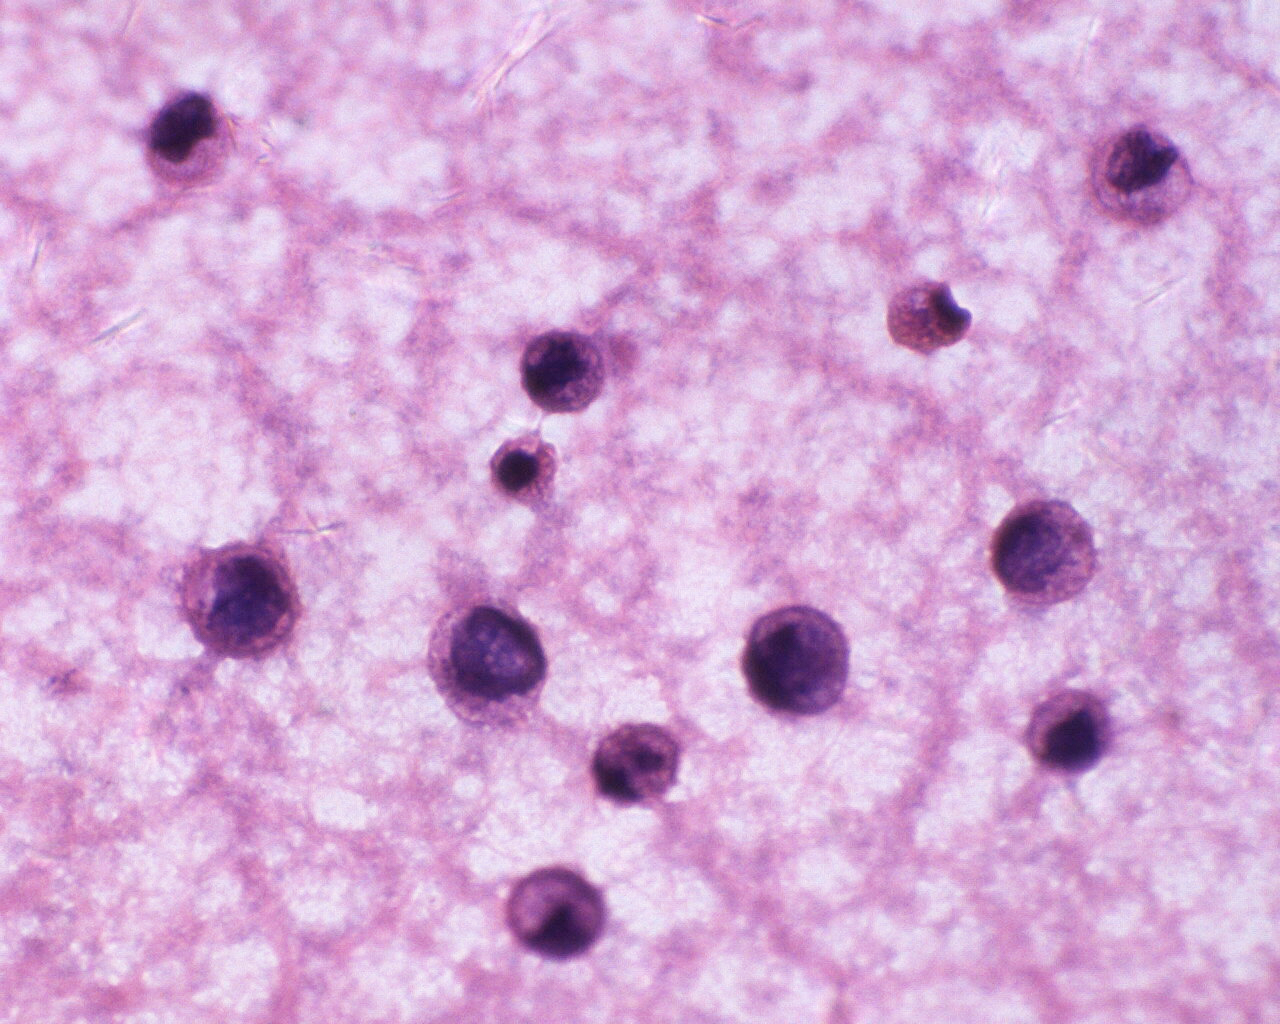ab: (416, 599, 555, 731), (178, 537, 308, 664), (991, 492, 1099, 614), (744, 598, 851, 720), (1091, 117, 1196, 231), (140, 88, 239, 193), (515, 321, 616, 416), (1018, 678, 1116, 774)
meso: (485, 425, 562, 507)
